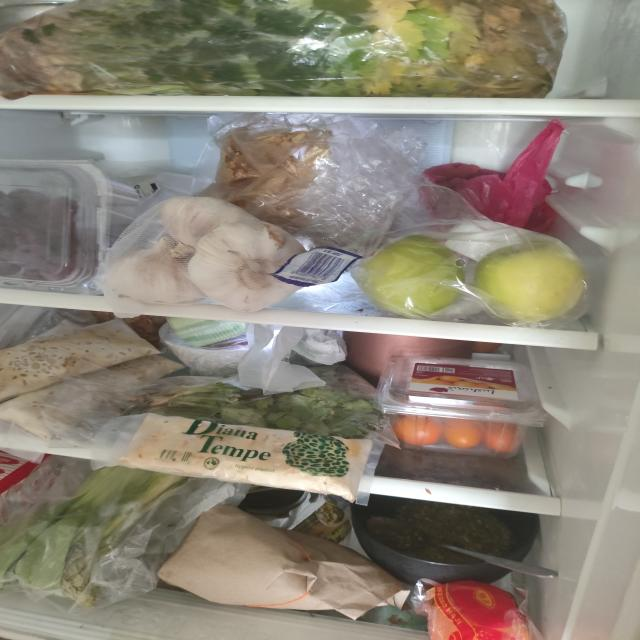apple: (474, 240, 586, 320), (362, 234, 467, 316)
garlic: (106, 195, 308, 314)
leafy_greens: (0, 0, 564, 99)
orange: (426, 581, 528, 640)
pakchoy: (0, 466, 188, 610)
tempeh: (117, 411, 373, 503), (0, 319, 187, 442)
unknown_bag: (422, 119, 564, 232)
